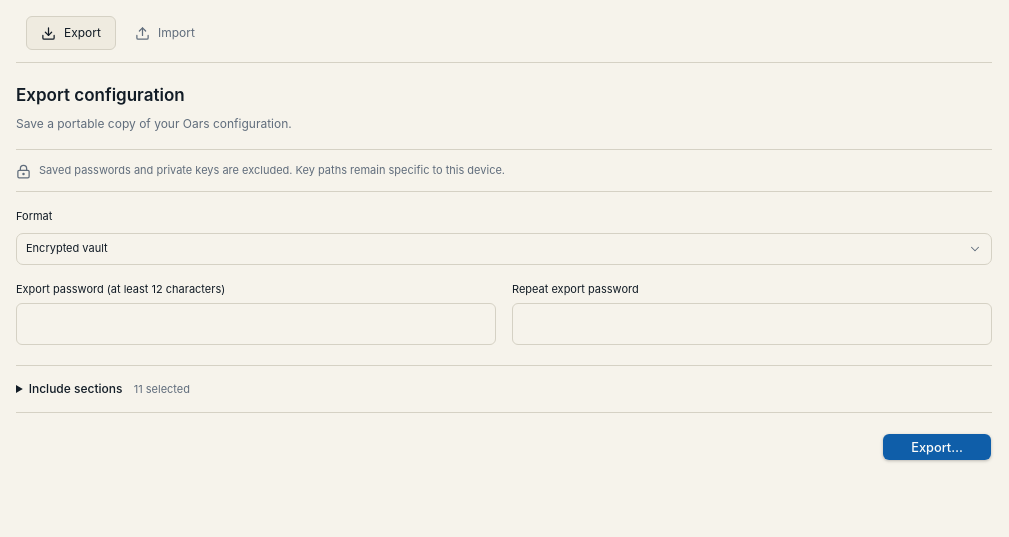
Test: Vault typed user path › sends the save dialog path and rejects short or mismatched passwords
This screenshot has width=1009, height=537.
Click the button "Export…": (937, 447) [882,433,992,461]
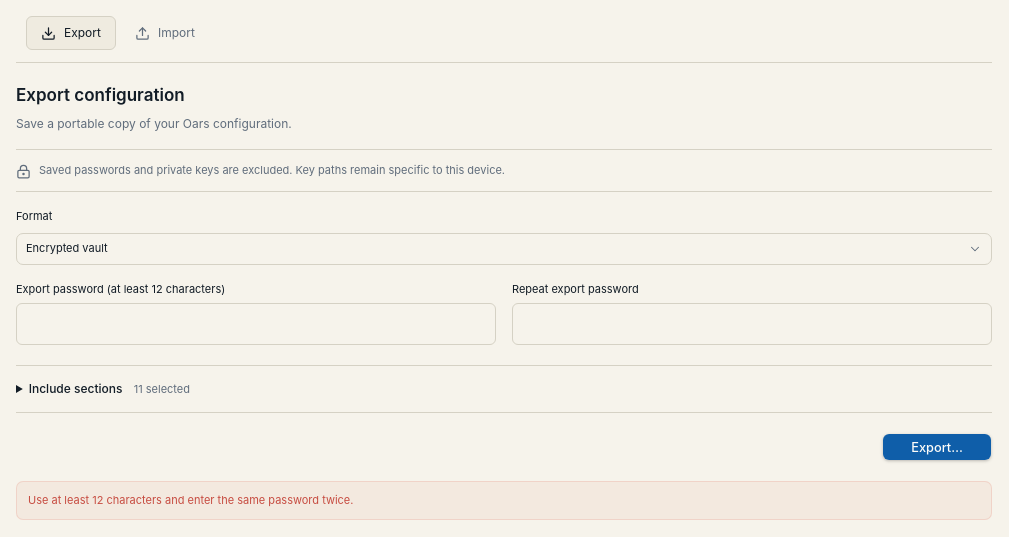
expect the message "Use at least 12 characters and enter the same password twice." is shown: met, box [16,481,992,520]
In the password field labelled "Export password (at least 12 characters)": (256, 324) [16,303,496,345], type "correct horse battery"
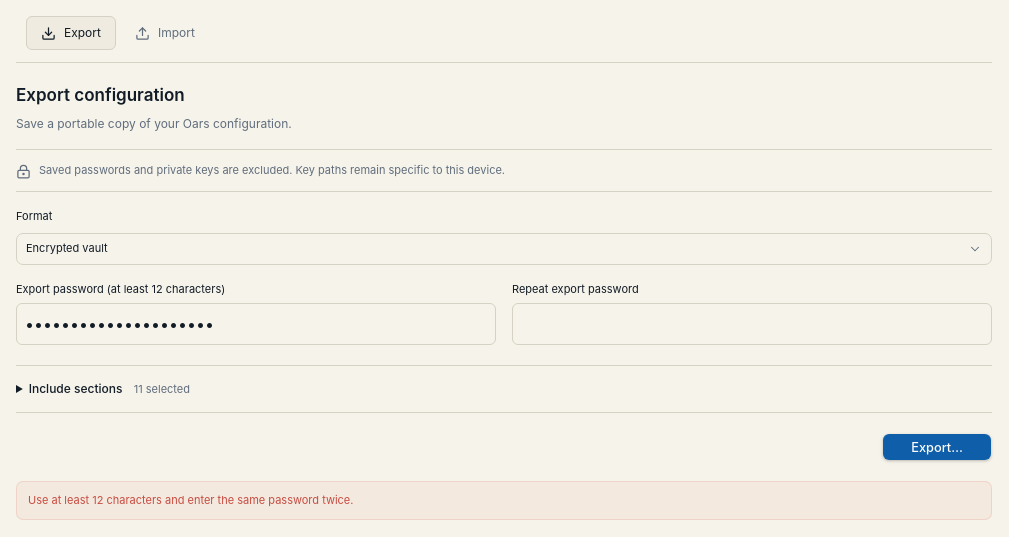
In the password field labelled "Repeat export password": (752, 324) [512,303,992,345], type "correct horse battery"
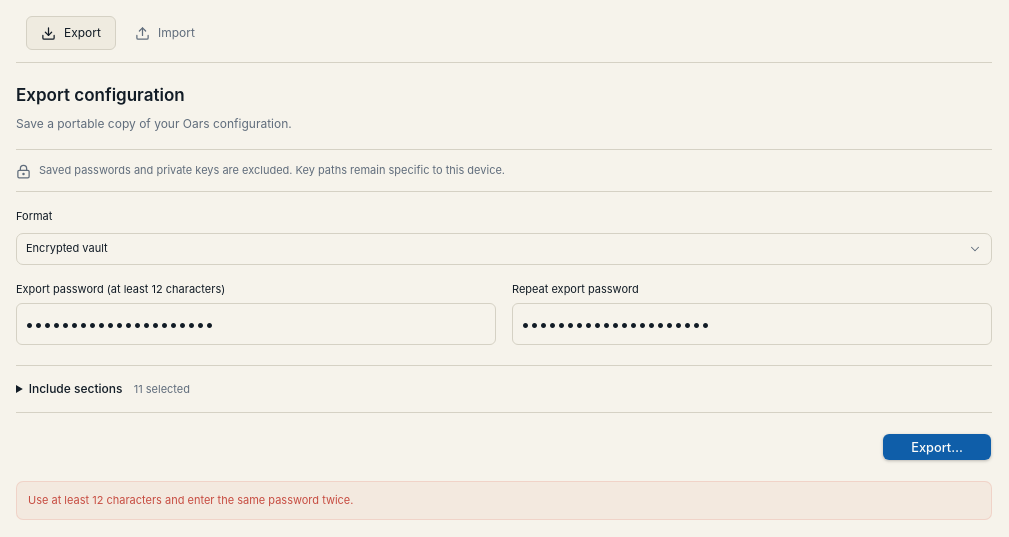
Click the button "Export…": (937, 447) [882,433,992,461]
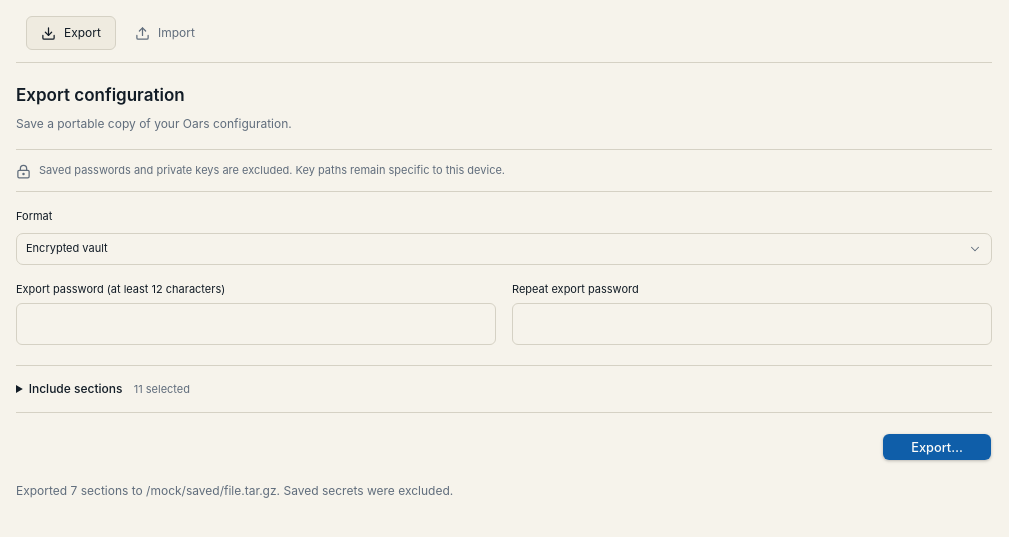
expect the text "Exported 7 sections to /mock/saved/file.tar.gz. Saved secrets were excluded." is shown: met, box [16,483,453,498]
